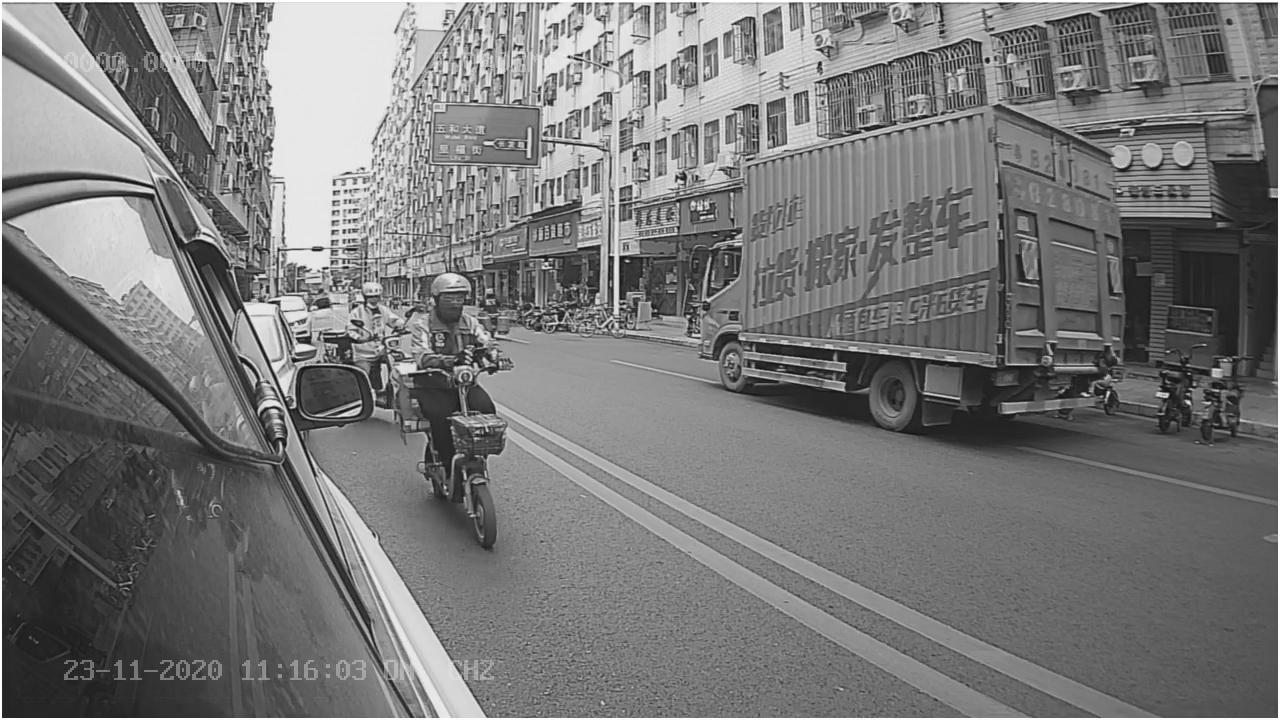person: (396, 268, 507, 346), (340, 280, 407, 360)
